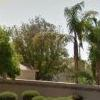Tree: (15, 9, 100, 72)
